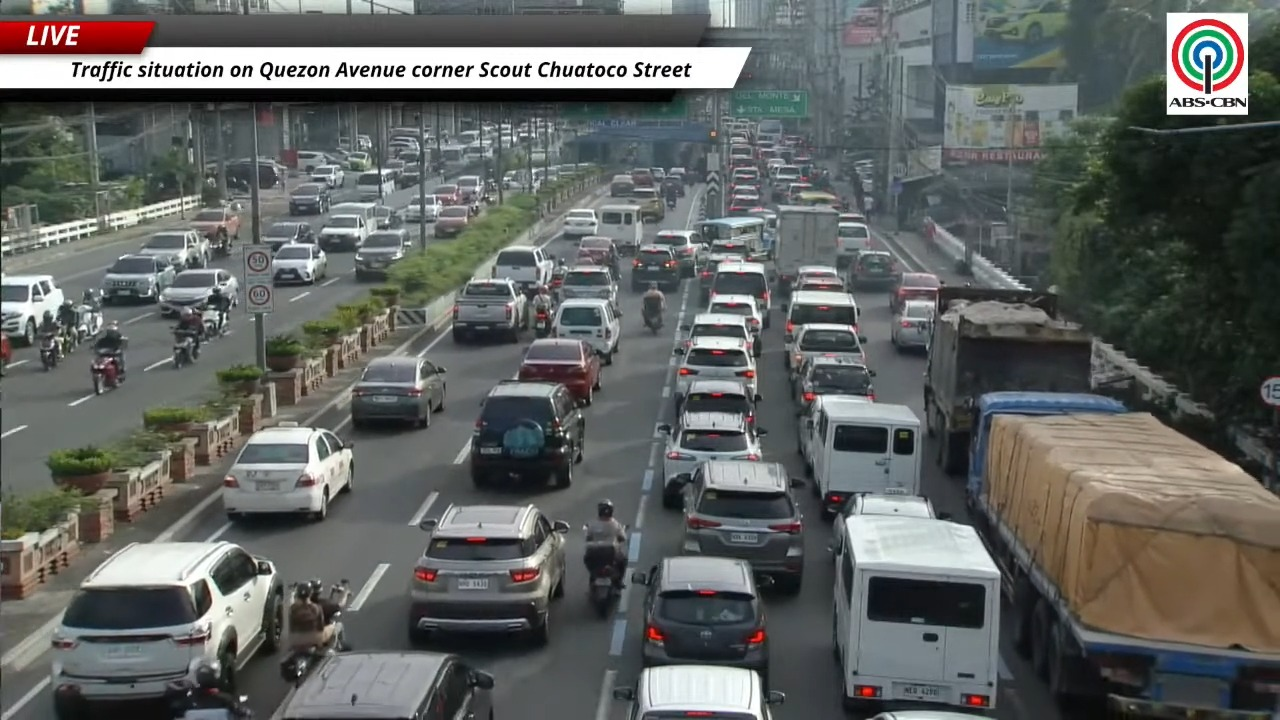car: (50, 542, 287, 719), (408, 505, 569, 643), (669, 460, 804, 593), (632, 556, 768, 685), (274, 650, 494, 719), (221, 422, 354, 520), (469, 380, 585, 488), (612, 660, 785, 719), (658, 408, 765, 501), (832, 492, 950, 554), (351, 355, 445, 428), (517, 338, 601, 405), (675, 337, 757, 397), (792, 353, 875, 411), (552, 298, 619, 364), (786, 323, 865, 375), (159, 268, 238, 316), (677, 380, 760, 425), (101, 255, 176, 303), (680, 312, 760, 357), (706, 294, 762, 356), (354, 228, 411, 280), (630, 245, 681, 291), (652, 230, 701, 277), (271, 243, 327, 284), (560, 265, 616, 306), (891, 300, 935, 350), (795, 395, 827, 462), (889, 272, 942, 312), (697, 252, 741, 300), (849, 250, 897, 289), (261, 221, 313, 253), (577, 235, 620, 273), (289, 183, 331, 215), (631, 186, 666, 223), (433, 205, 471, 237), (868, 709, 988, 719), (403, 195, 442, 222), (562, 208, 598, 237), (792, 276, 846, 291), (310, 164, 344, 187), (455, 176, 483, 203), (430, 184, 463, 206), (374, 204, 403, 229), (730, 193, 760, 215), (345, 152, 372, 171), (0, 333, 12, 374), (630, 168, 655, 187), (787, 182, 812, 201), (661, 176, 684, 196), (838, 212, 866, 223), (649, 167, 665, 182)
motorcycle: (279, 610, 348, 686), (165, 680, 252, 719), (584, 545, 622, 617), (90, 352, 121, 394), (76, 304, 104, 343), (172, 330, 198, 368), (39, 332, 62, 370), (200, 307, 227, 339), (642, 311, 662, 335), (535, 309, 551, 338), (211, 234, 231, 257), (666, 196, 677, 209)
truck: (966, 393, 1279, 719), (923, 286, 1092, 476), (772, 205, 837, 296), (451, 278, 527, 342), (0, 274, 64, 345), (491, 246, 554, 298), (136, 229, 211, 271)
